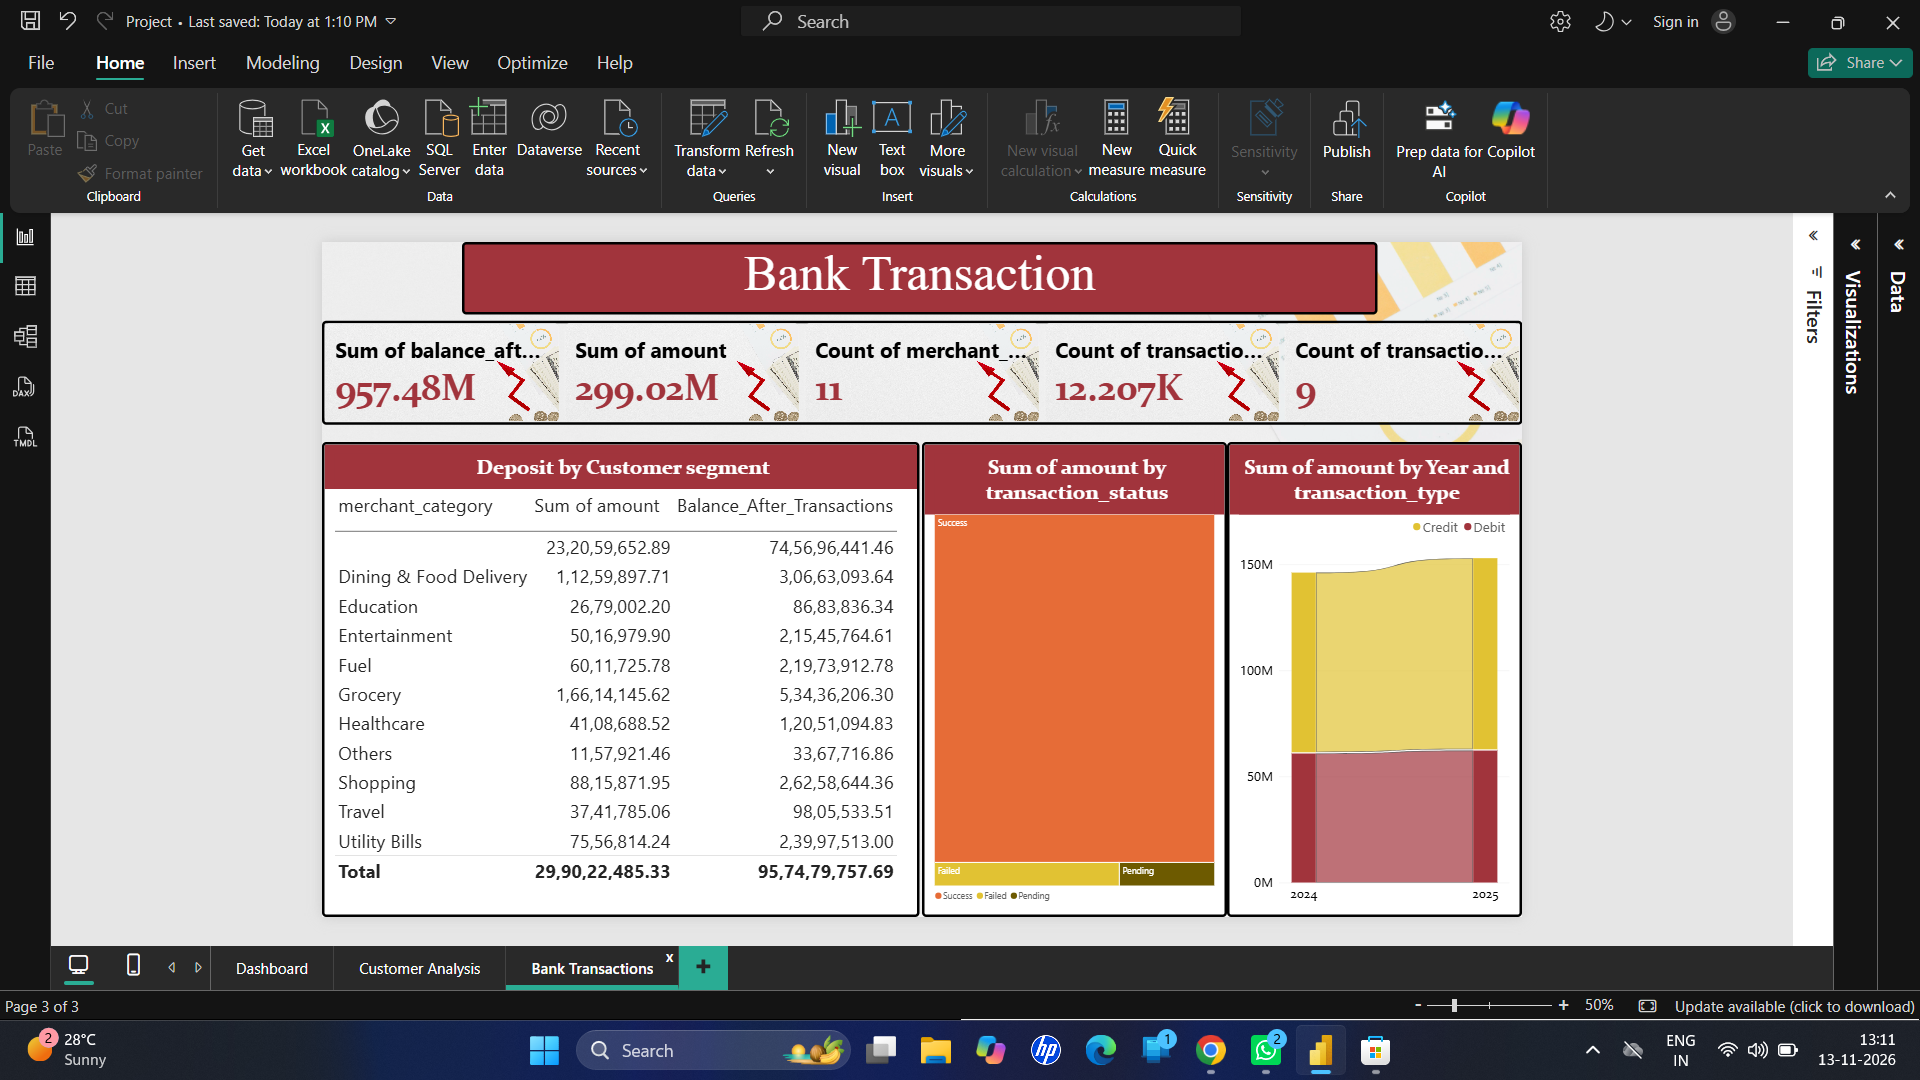

This screenshot's page, from the dashboard's own definition file:
{"tool":"powerbi","page":{"name":"Bank Transactions","canvas":[1920,1080],"ordinal":2},"visuals":[{"type":"textbox","box":[224.2,0,1464.7,115.9],"z":0},{"type":"cardVisual","fields":{"Data":["Sum(bank.balance_after_transaction)","Sum(bank.amount)","Count(bank.merchant_category)","Count(bank.transaction_id)","Count(bank.transaction_channel)"]},"box":[0,125,1920.8,166.2],"z":1000},{"type":"tableEx","title":"Deposit by Customer segment","fields":{"Values":["bank.merchant_category","Sum(bank.amount)","Sum(bank.balance_after_transaction)"]},"box":[0,320,956,760],"z":2000},{"type":"treemap","fields":{"Group":["bank.transaction_status"],"Values":["Sum(bank.amount)"]},"box":[960,320,488,760],"z":2001},{"type":"ribbonChart","fields":{"Category":["bank.transaction_date.Variation.Date Hierarchy.Year"],"Series":["bank.transaction_type"],"Y":["Sum(bank.amount)"]},"box":[1448,320,472,760],"z":2002}]}

Visuals, with their boxes on the page's 1920x1080 design canvas (x1, y1, x2, y2). These are canvas units, not pixel positions in the 1920x1080 screenshot, which may show the page scaled, cropped or inside an application window:
textbox: BBox(224, 0, 1689, 116)
cardVisual - Sum(bank.balance_after_transaction) x Sum(bank.amount): BBox(0, 125, 1921, 291)
"Deposit by Customer segment" tableEx: BBox(0, 320, 956, 1080)
treemap - bank.transaction_status x Sum(bank.amount): BBox(960, 320, 1448, 1080)
ribbonChart - bank.transaction_date.Variation.Date Hierarchy.Year x bank.transaction_type: BBox(1448, 320, 1920, 1080)
